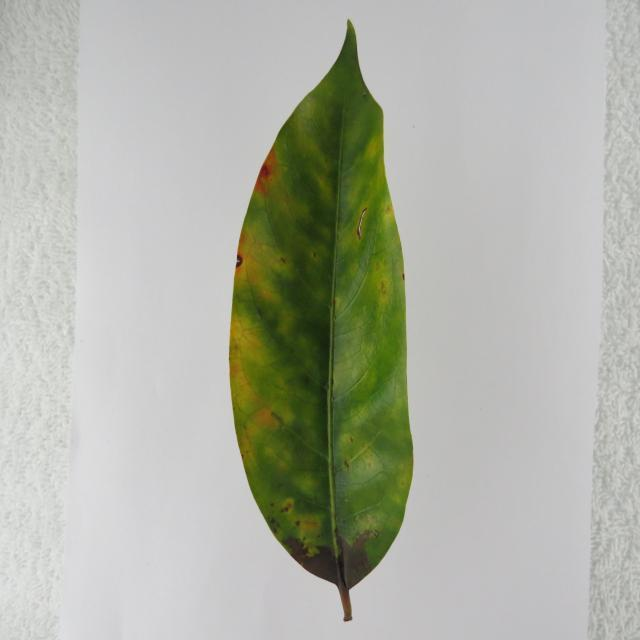DeficienciaNutricional-Fosforo: (229, 22, 412, 620)
